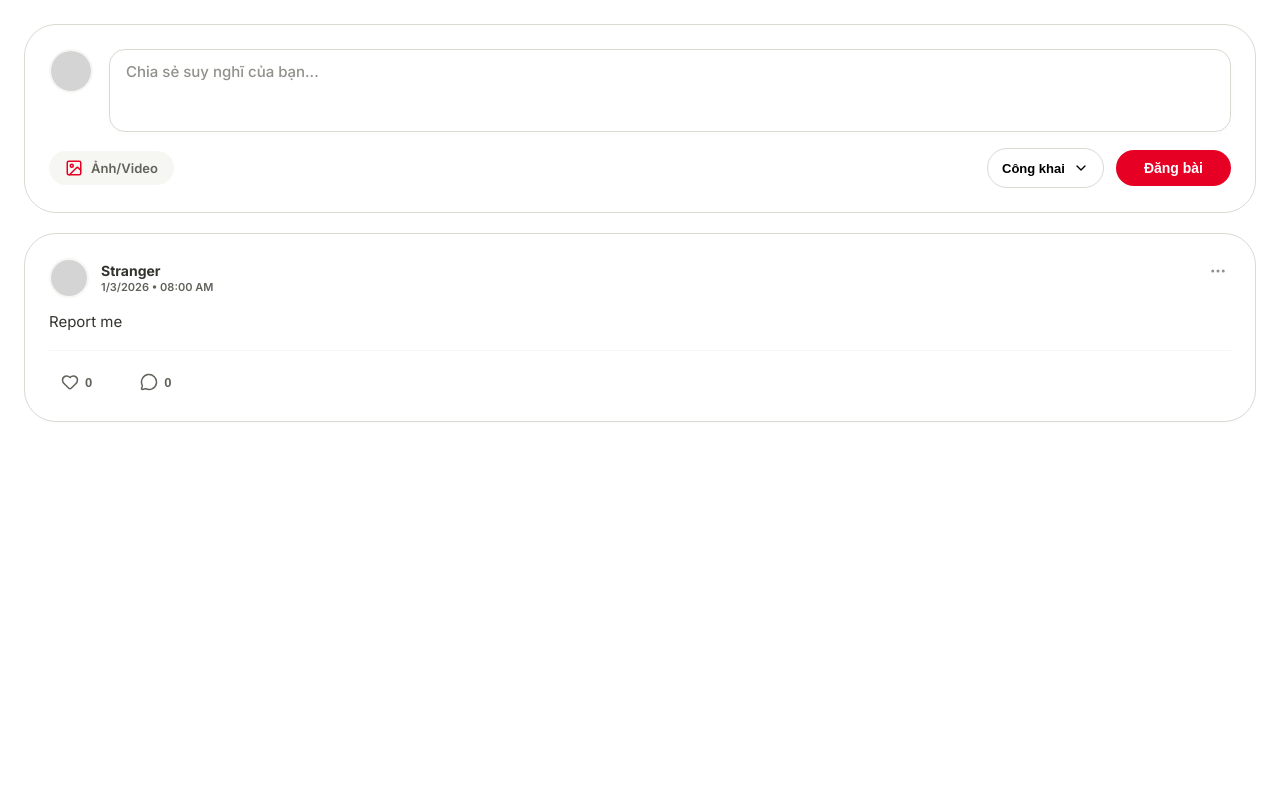
Feed — report / block / delete / edit › report_menu_opens_modal_and_submitReport_POSTs_typed_URL_with_reason_query_and_description_body
Check: the text box with id "feed-post-input" is shown, box [109,49,1231,132]
Step 1. Click the 3rd button → (1218, 272), box [1205,258,1231,287]
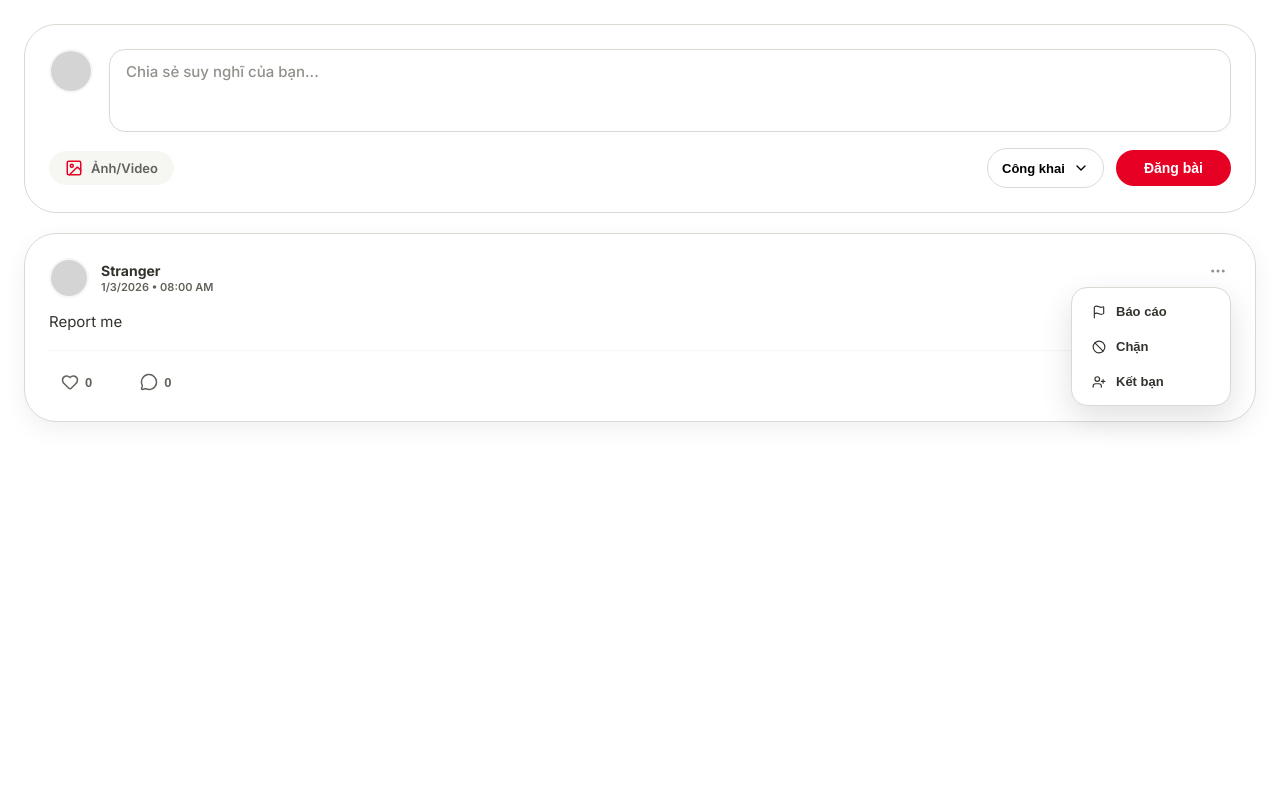
Step 2. Click the button "Báo cáo" → (1151, 312), box [1078,294,1224,329]
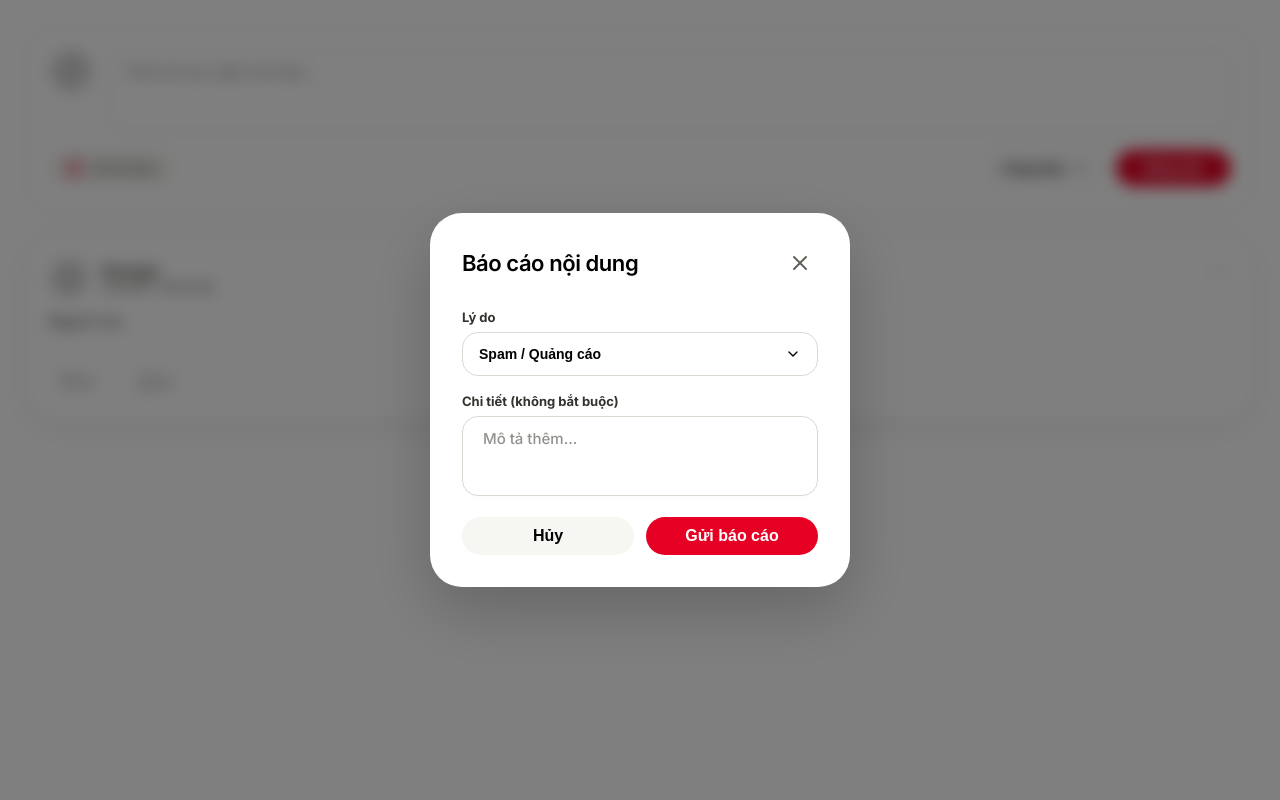
Check: the heading "Báo cáo nội dung" is shown, box [462,250,638,278]
Step 3. Type "More detail" into the text box with placeholder "Mô tả thêm..." → (640, 456), box [462,416,818,496]
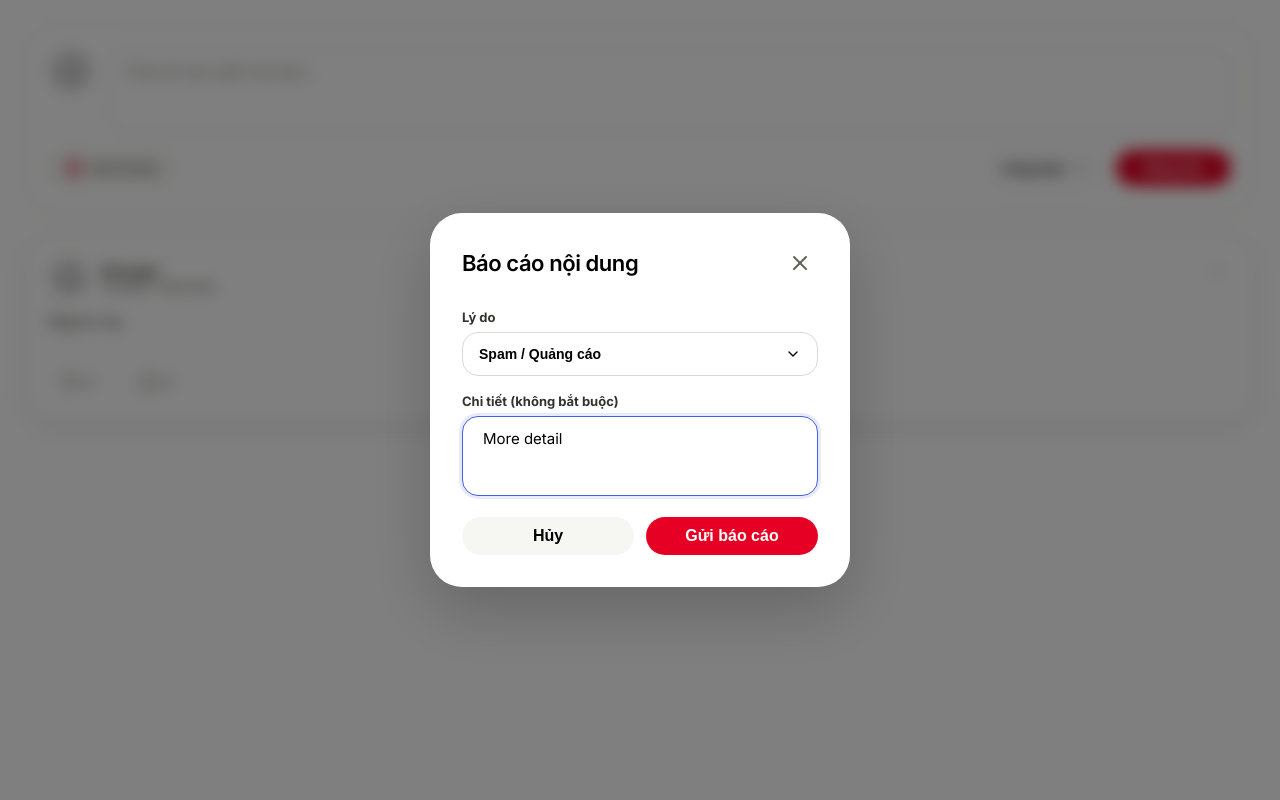
Step 4. Click the button "Gửi báo cáo" → (732, 536), box [646,517,818,555]
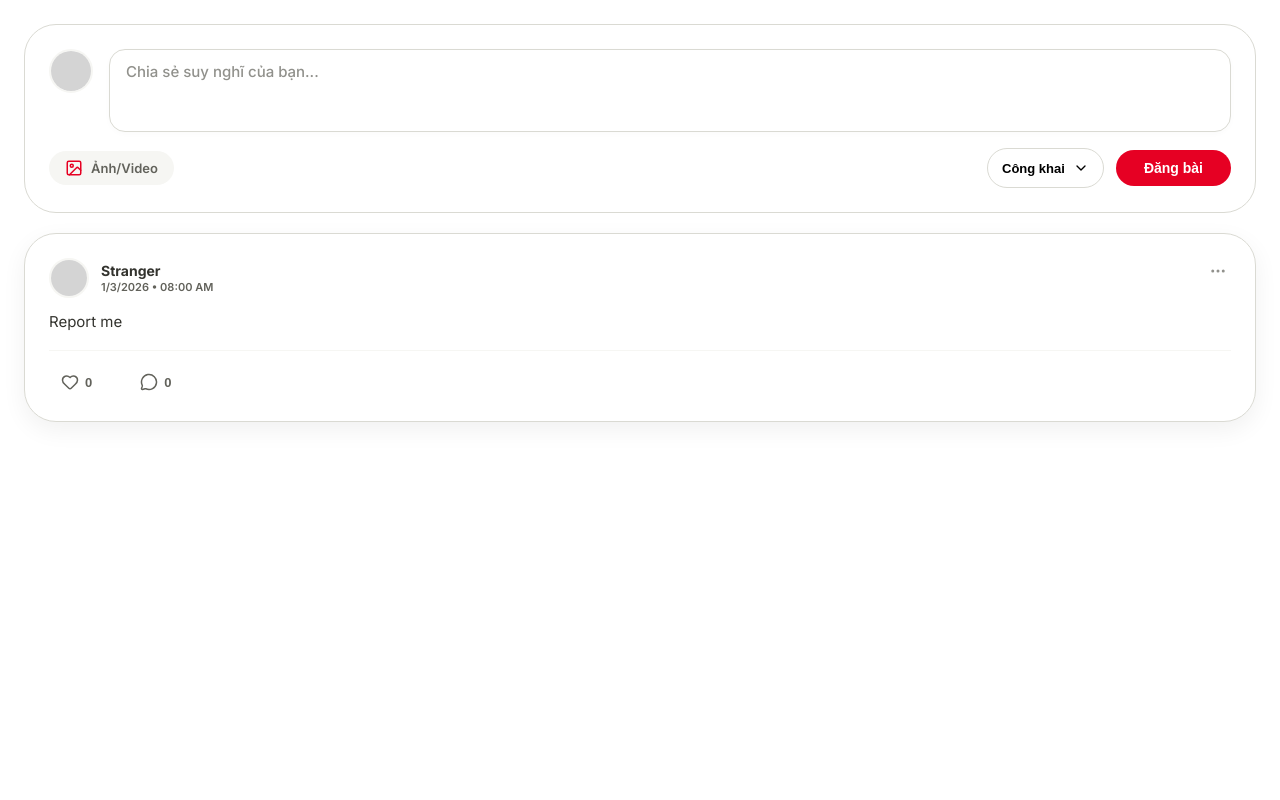
Check: the heading "Báo cáo nội dung" is gone
